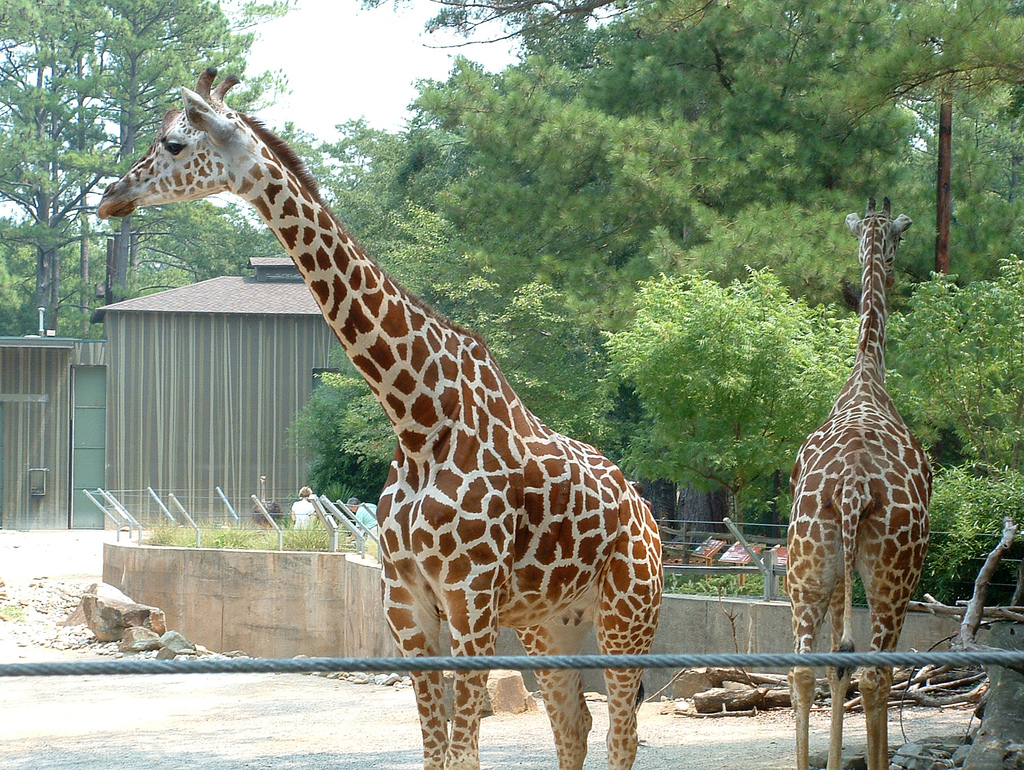giraffe: (114, 70, 696, 758), (773, 175, 970, 757)
